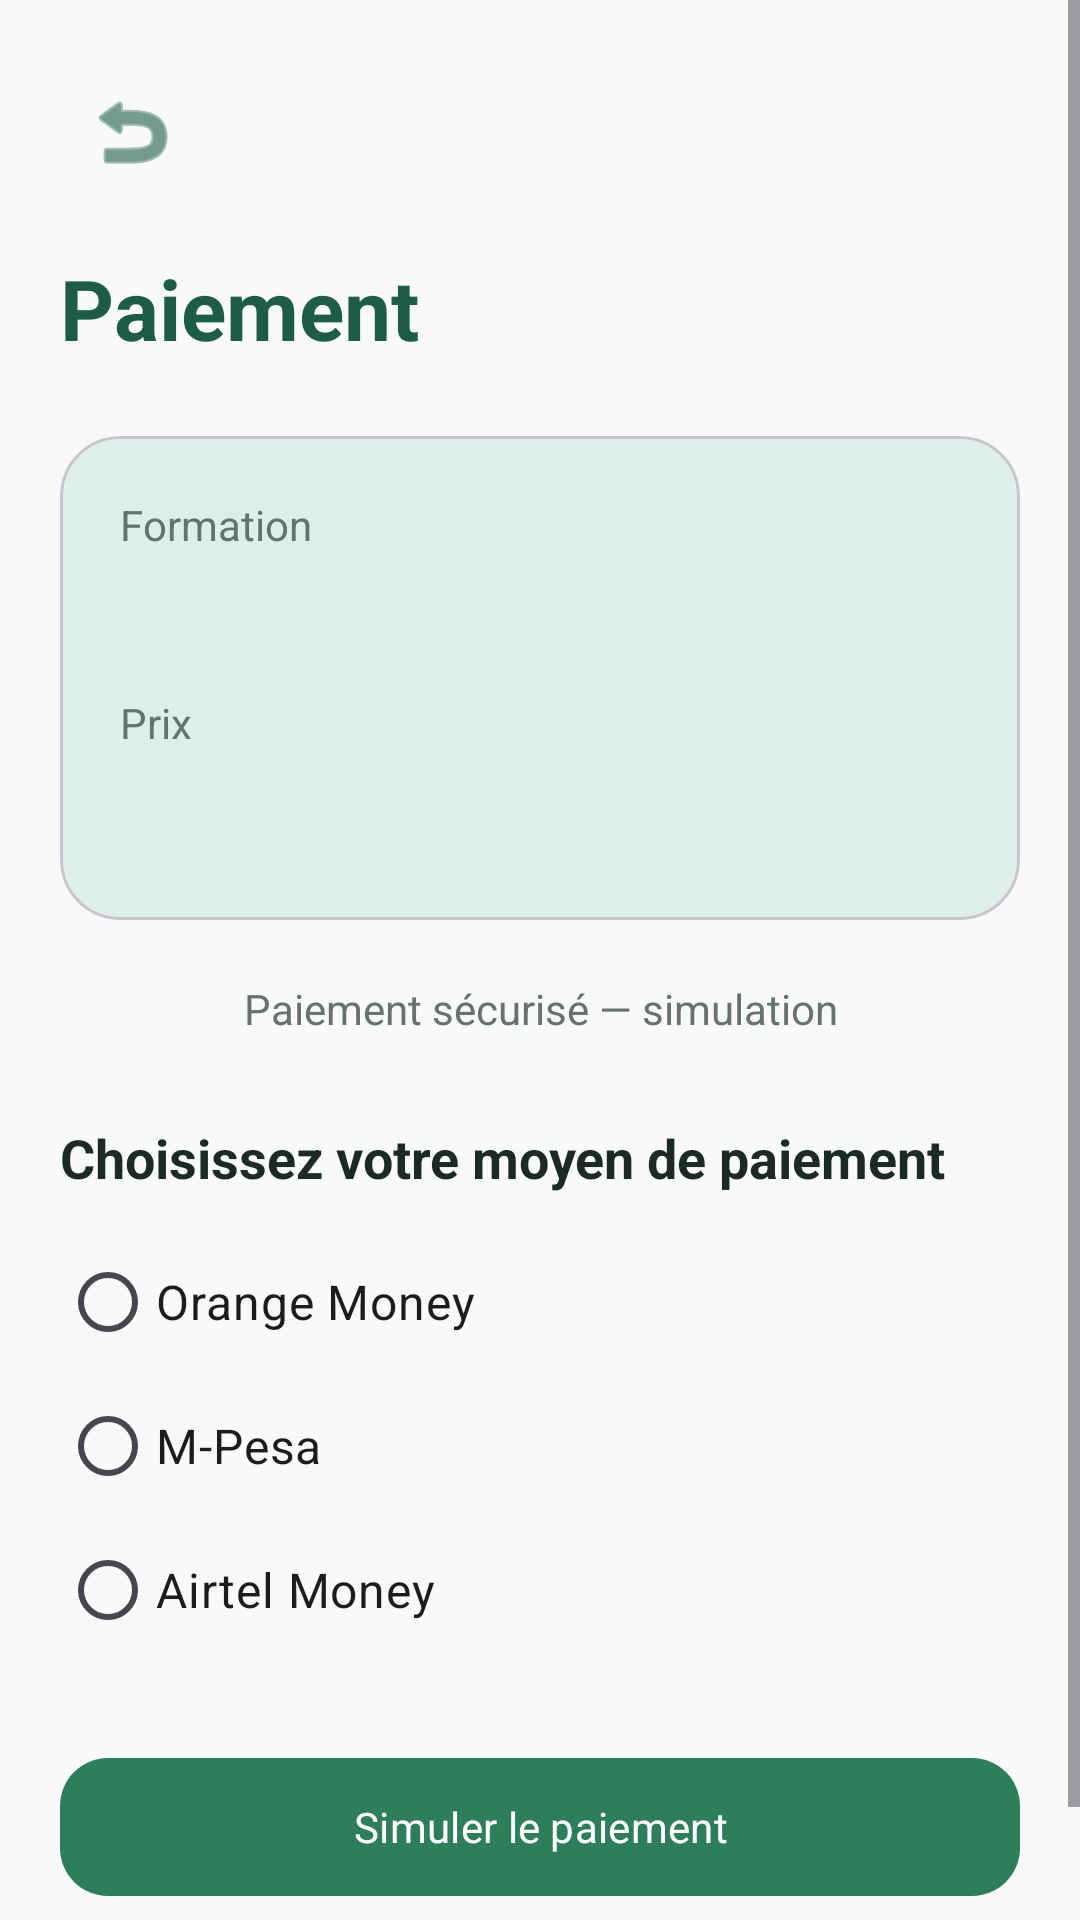

Icon click points for this 1080px x 1920px phone screenshot, format [x,y]:
Retour: [133,132]
